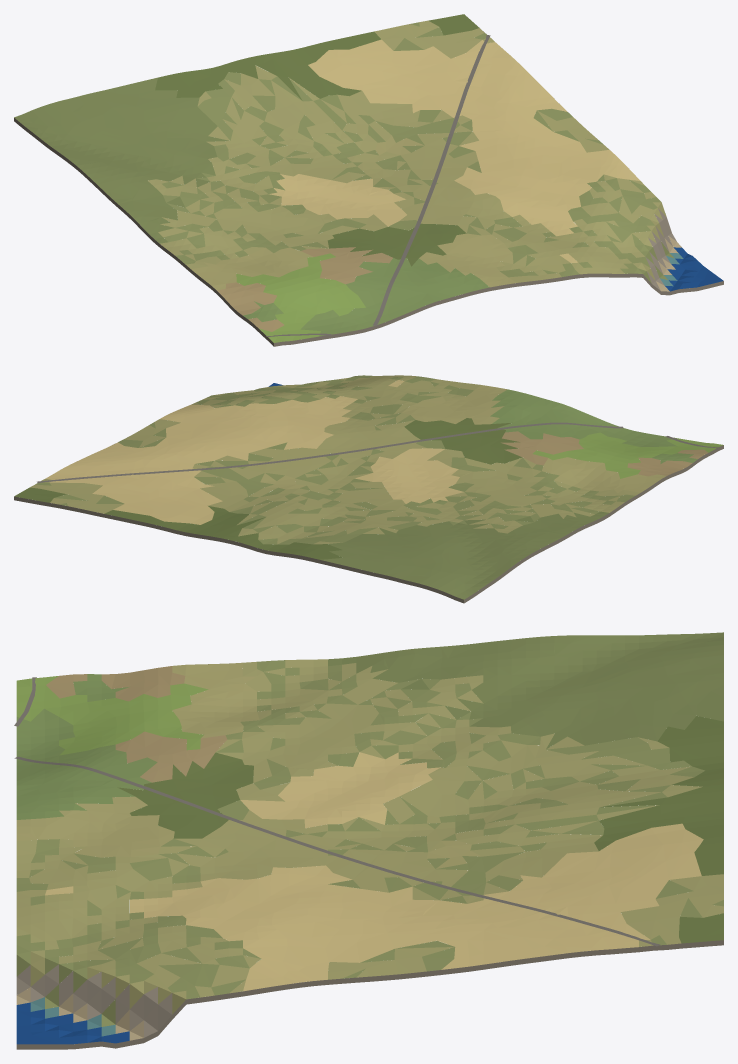
The model's file is parca_+12_-6-uzak.glb.
3 views of the same model, one above another, from view 1: azimuth 30°, elevation 25°; view 2: azimuth 150°, elevation 25°; view 3: azimuth 270°, elevation 25° (orthographic). The views are drawn at different scales.
Visible parts, largest first — view 1: parca_+12_-6_arazi_uzak, parca_+12_-6_yollar_uzak; view 2: parca_+12_-6_arazi_uzak, parca_+12_-6_yollar_uzak; view 3: parca_+12_-6_arazi_uzak, parca_+12_-6_yollar_uzak.
Boxes of the visible parts, <box> form: parca_+12_-6_arazi_uzak: <box>14,14,723,346</box>; parca_+12_-6_yollar_uzak: <box>266,35,490,336</box>; parca_+12_-6_arazi_uzak: <box>14,375,723,603</box>; parca_+12_-6_yollar_uzak: <box>37,422,718,483</box>; parca_+12_-6_arazi_uzak: <box>16,632,723,1049</box>; parca_+12_-6_yollar_uzak: <box>14,677,660,946</box>.
Size of the model in its own units: 1006 by 196 by 1004.
